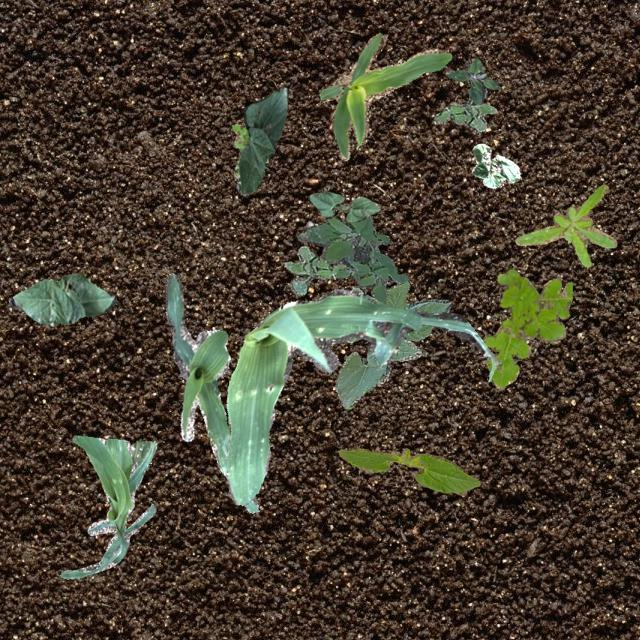crop: (225, 288, 500, 504), (164, 272, 258, 512), (318, 32, 451, 160), (334, 280, 451, 408), (58, 435, 156, 579), (336, 448, 478, 494), (234, 86, 288, 194), (8, 272, 114, 326), (306, 190, 379, 222), (470, 142, 520, 188)
weed: (482, 267, 572, 388), (296, 215, 408, 302), (514, 184, 616, 266), (284, 246, 346, 294), (446, 58, 498, 104), (432, 96, 496, 130), (230, 122, 248, 178)
